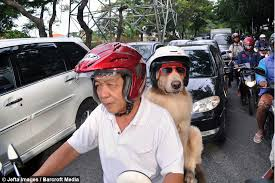helmet: (76, 42, 153, 108), (147, 29, 198, 101)
